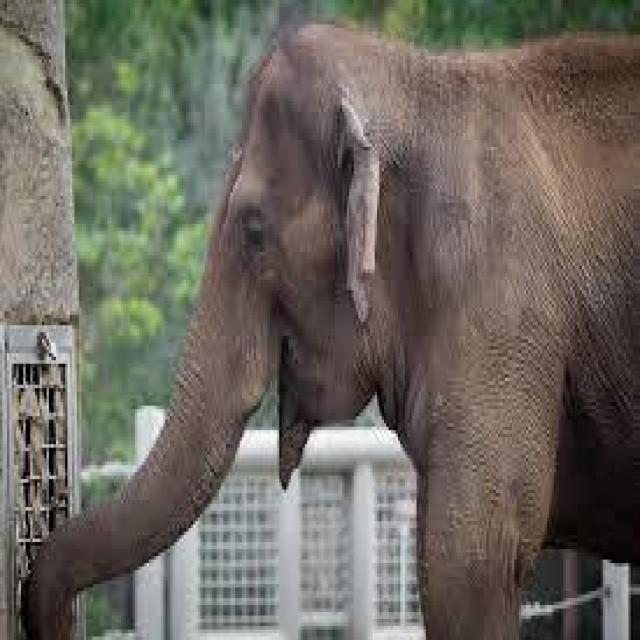Elephant: (44, 11, 638, 636)
